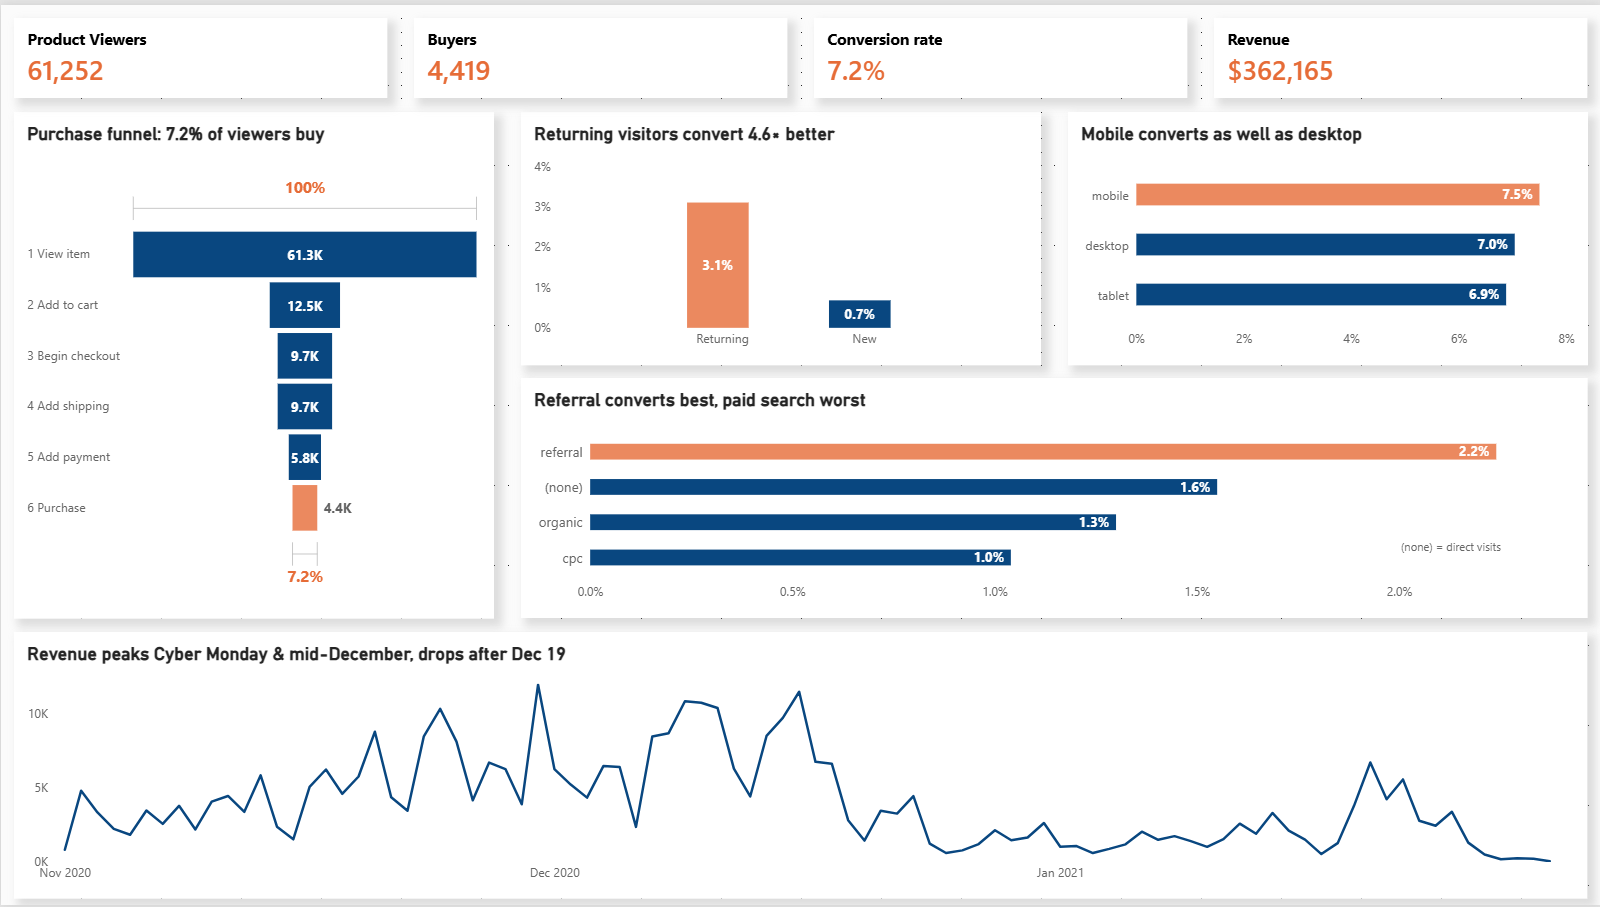

This screenshot's page, from the dashboard's own definition file:
{"tool":"powerbi","page":{"name":"Online store performance","canvas":[1920,1080],"ordinal":0},"visuals":[{"type":"funnel","title":"Purchase funnel: 7.2% of viewers buy","fields":{"Category":["q1_funnel.step"],"Y":["Sum(q1_funnel.users)"]},"box":[16,128,576,608],"z":0},{"type":"clusteredColumnChart","title":"Returning visitors convert 4.6× better","fields":{"Category":["q3_new_returning.user_type"],"Y":["Sum(q3_new_returning.session_conversion_rate)"]},"box":[624,128,624,304],"z":1000},{"type":"cardVisual","fields":{"Data":["Sum(q1_funnel.users)"]},"box":[16,16,448,96],"z":2000},{"type":"cardVisual","fields":{"Data":["Sum(q1_funnel.users)"]},"box":[496,16,448,96],"z":3000},{"type":"cardVisual","fields":{"Data":["Sum(q1_funnel.pct_of_viewers)"]},"box":[976,16,448,96],"z":4000},{"type":"cardVisual","fields":{"Data":["Sum(q2_channels.revenue_usd)"]},"box":[1456,16,448,96],"z":5000},{"type":"clusteredBarChart","title":"Mobile converts as well as desktop","fields":{"Category":["q5_device.device"],"Y":["Sum(q5_device.view_to_purchase_rate)"]},"box":[1280,128,624,304],"z":6000},{"type":"clusteredBarChart","title":"Referral converts best, paid search worst","fields":{"Category":["q2_channels.medium"],"Y":["Sum(q2_channels.conversion_rate)"]},"box":[624,448,1280,288],"z":7000},{"type":"lineChart","title":"Revenue peaks Cyber Monday & mid-December, drops after Dec 19","fields":{"Category":["q4_daily.day"],"Y":["Sum(q4_daily.revenue_usd)"]},"box":[16,752,1888,320],"z":8000},{"type":"textbox","box":[1680,640,176,32],"z":9000}]}

Visuals, with their boxes in screenshot pixels (x1, y1, x2, y2), scaled from the page's 1920x1080 canvas onto the 1600x907 screenshot:
"Purchase funnel: 7.2% of viewers buy" funnel: 13 107 493 618
"Returning visitors convert 4.6× better" clusteredColumnChart: 520 107 1040 363
cardVisual - Sum(q1_funnel.users): 13 13 387 94
cardVisual - Sum(q1_funnel.users): 413 13 787 94
cardVisual - Sum(q1_funnel.pct_of_viewers): 813 13 1187 94
cardVisual - Sum(q2_channels.revenue_usd): 1213 13 1587 94
"Mobile converts as well as desktop" clusteredBarChart: 1067 107 1587 363
"Referral converts best, paid search worst" clusteredBarChart: 520 376 1587 618
"Revenue peaks Cyber Monday & mid-December, drops after Dec 19" lineChart: 13 632 1587 900
textbox: 1400 537 1547 564
